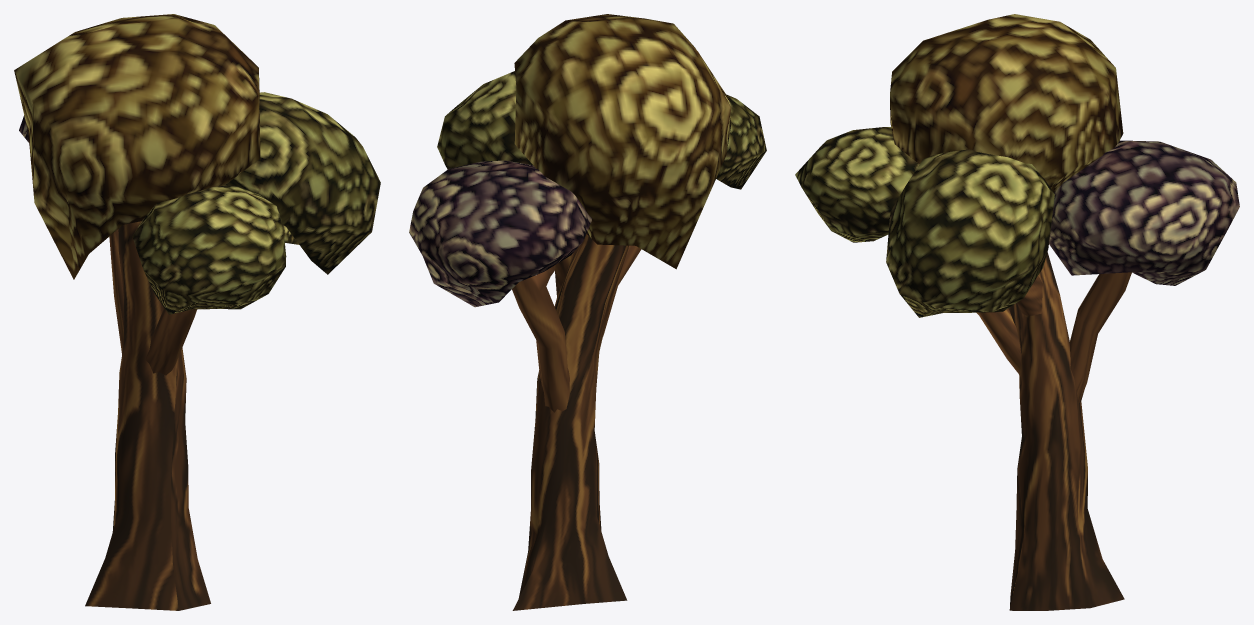
The model's file is Ntree_5_1.fbx.
The picture shows the model from 3 angles, left to right: view 1: azimuth 30°, elevation 25°; view 2: azimuth 150°, elevation 25°; view 3: azimuth 270°, elevation 25°; orthographic projection. The views are drawn at different scales.
Visible parts, largest first — view 1: Ntree_5_1; view 2: Ntree_5_1; view 3: Ntree_5_1.
Boxes of the visible parts, box(x1,y1,x2,y2) form: Ntree_5_1: box(14, 14, 380, 610); Ntree_5_1: box(409, 14, 766, 610); Ntree_5_1: box(795, 14, 1239, 610).
Size of the model in its own units: 146 by 266 by 194.
